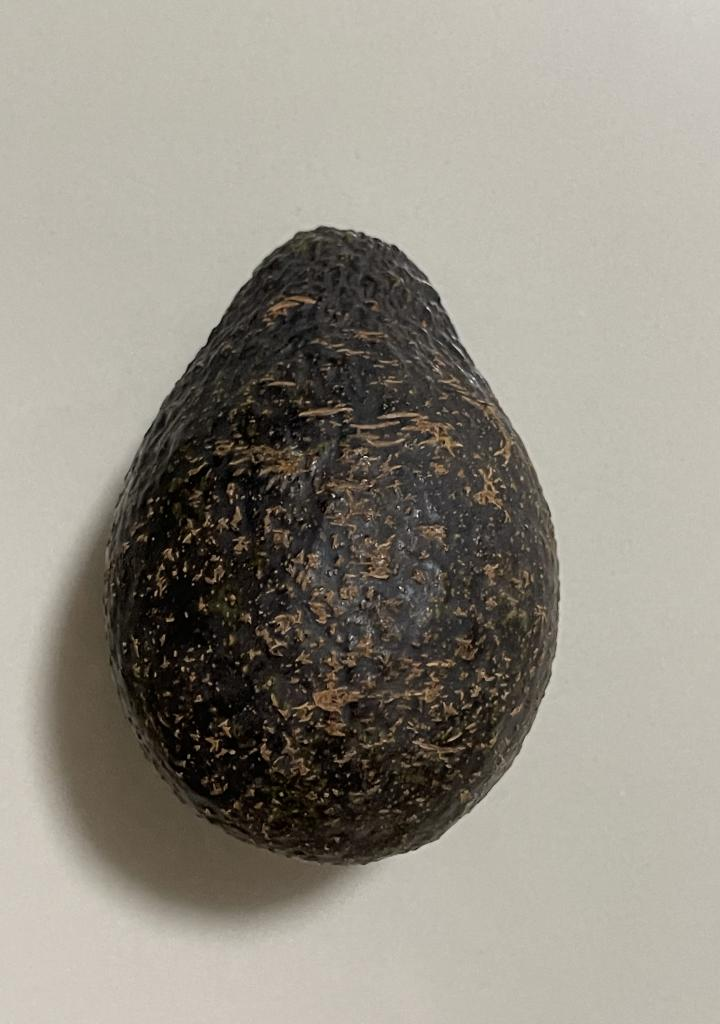Level2: (93, 218, 573, 872)
